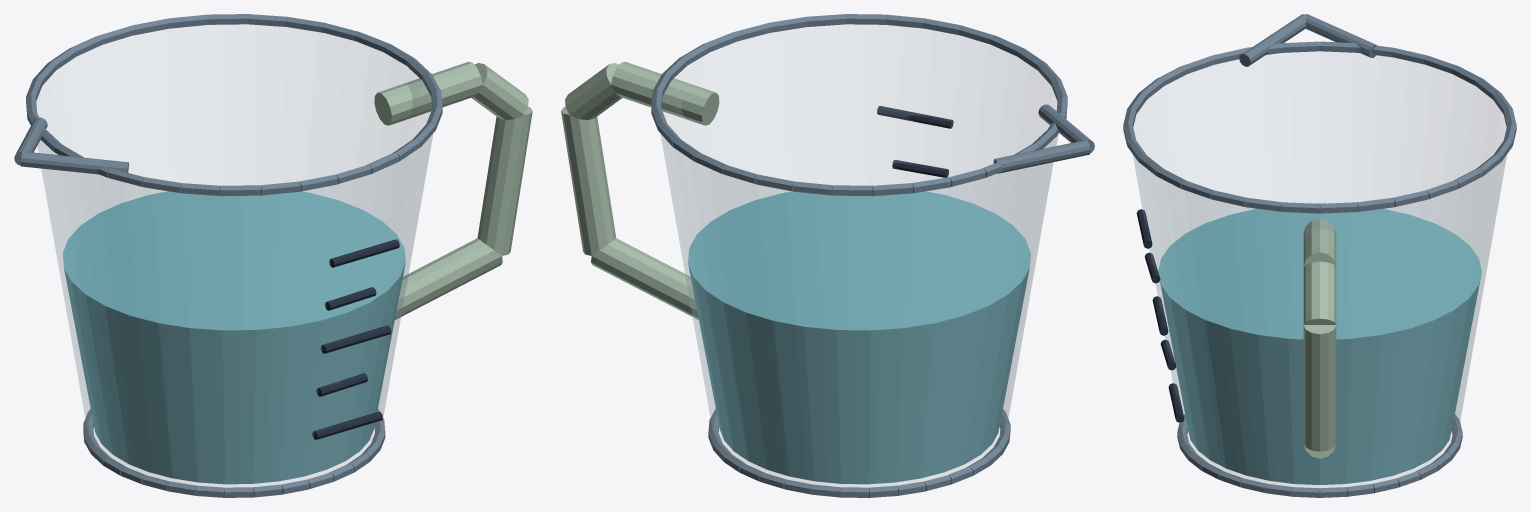
The model's file is jug.glb.
3 renders of one model, left to right at view 1: azimuth 30°, elevation 25°; view 2: azimuth 150°, elevation 25°; view 3: azimuth 270°, elevation 25°, orthographic. The views are drawn at different scales.
Parts seen in each view (by area): view 1: glass wall, liquid, handle2, handle3, handle0, handle1, pour lip0, tick 4, tick 2, tick 0, pour lip1; view 2: glass wall, liquid, handle2, handle3, handle0, handle1, pour lip1, pour lip0, tick 4; view 3: glass wall, liquid, handle2, handle1, handle0, pour lip0, pour lip1.
Boxes of the visible parts, box(x1,y1,x2,y2) form: glass wall: box(37, 25, 432, 487); liquid: box(62, 191, 405, 484); handle2: box(477, 107, 532, 255); handle3: box(395, 238, 502, 319); handle0: box(374, 61, 482, 125); handle1: box(471, 63, 528, 120); pour lip0: box(20, 151, 128, 174); tick 4: box(329, 239, 399, 267); tick 2: box(320, 325, 391, 353); tick 0: box(312, 411, 382, 439); pour lip1: box(14, 117, 47, 165); glass wall: box(660, 25, 1058, 487); liquid: box(688, 191, 1030, 484); handle2: box(561, 106, 616, 255); handle3: box(591, 238, 698, 319); handle0: box(611, 61, 719, 125); handle1: box(565, 63, 622, 120); pour lip1: box(993, 140, 1090, 173); pour lip0: box(1038, 104, 1094, 152); tick 4: box(877, 106, 953, 128); glass wall: box(1133, 52, 1506, 488); liquid: box(1158, 203, 1481, 484); handle2: box(1303, 325, 1336, 451); handle1: box(1303, 261, 1336, 324); handle0: box(1303, 218, 1336, 266); pour lip0: box(1239, 14, 1306, 66); pour lip1: box(1305, 14, 1376, 58).
Size of the model in its own units: 1.89 by 1.19 by 1.31.
